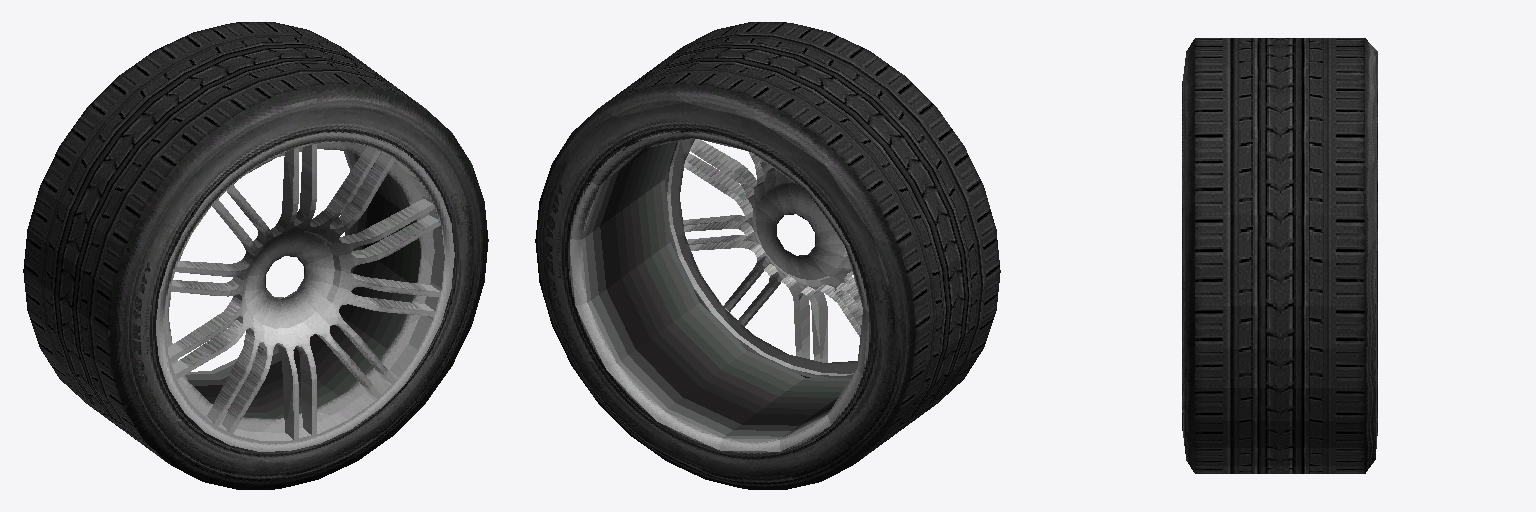
3 renders of one model, left to right at view 1: azimuth 30°, elevation 25°; view 2: azimuth 150°, elevation 25°; view 3: azimuth 270°, elevation 25°, orthographic.
Visible parts, largest first — view 1: Wheel; view 2: Wheel; view 3: Wheel.
Boxes of the visible parts, <box> form: Wheel: <box>23,22,488,489</box>; Wheel: <box>535,22,1000,489</box>; Wheel: <box>1182,38,1377,473</box>.
Bounding box in the file's own units: 5.24 × 5.2 × 2.33.
3 materials, 2 textured.